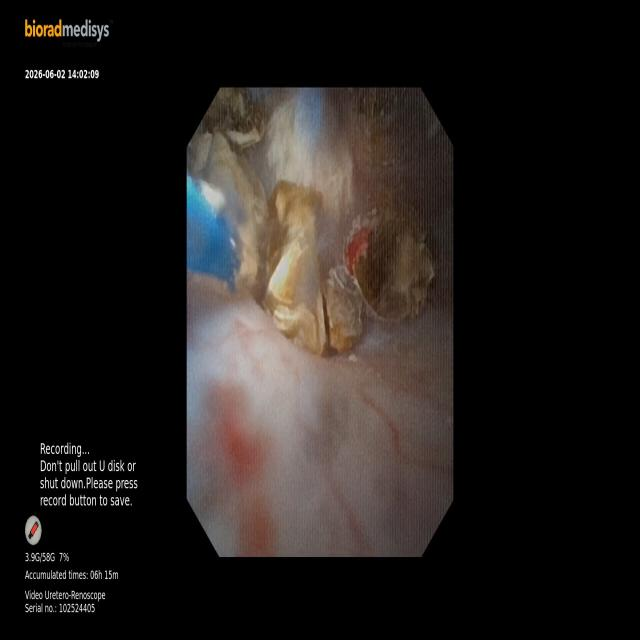laser-fibre: (233, 241, 268, 280)
laser_dot: (270, 254, 294, 290)
stone-new: (188, 133, 267, 297), (263, 181, 327, 354), (353, 212, 434, 320), (324, 266, 363, 352)
